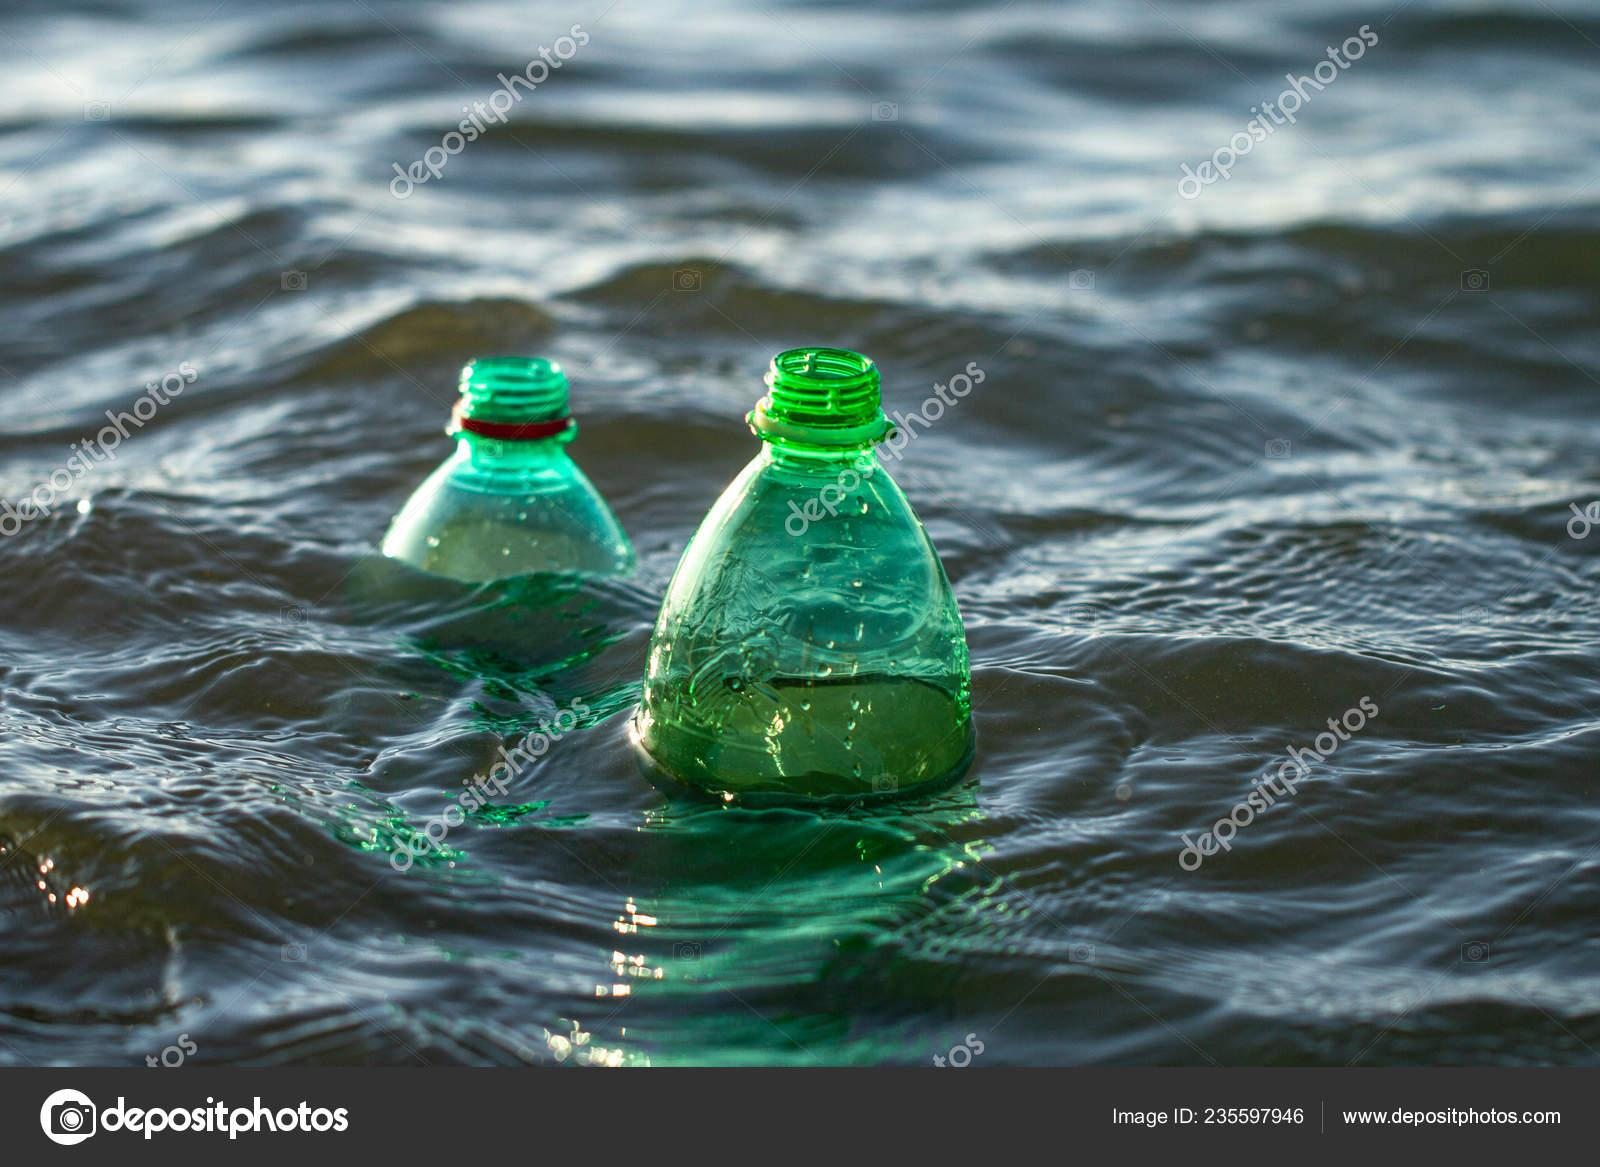bottle: (611, 333, 1014, 836), (368, 313, 643, 646)
